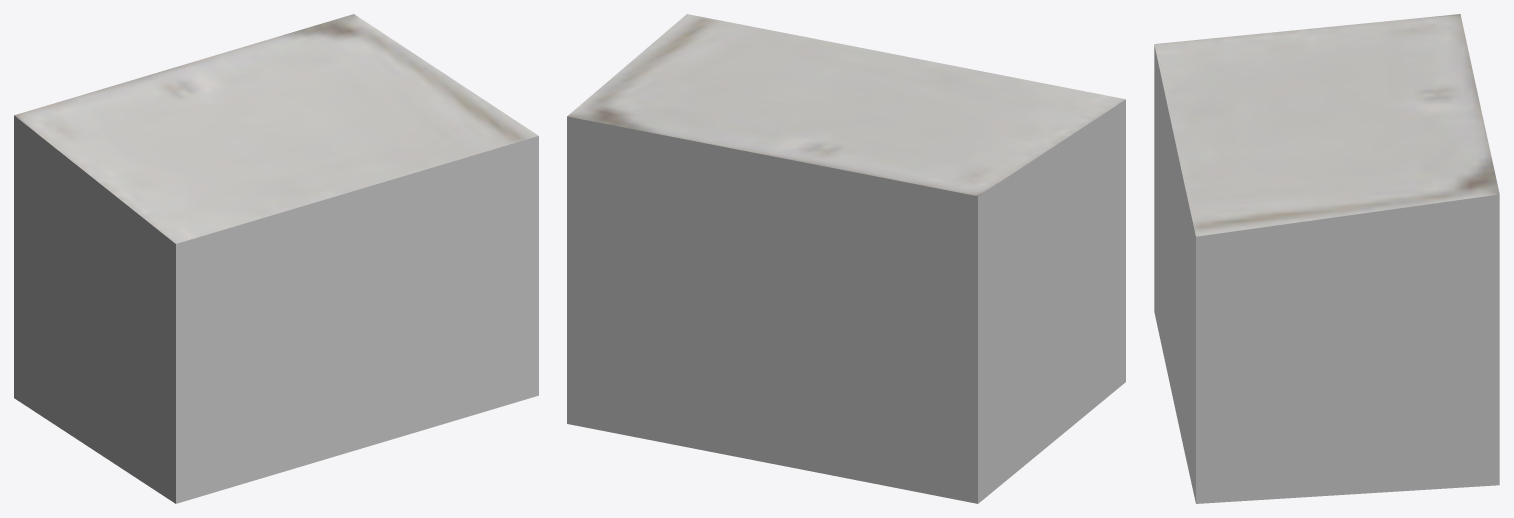
File: DEBW_0010007Tx8V.gltf
The picture shows the model from 3 angles, left to right: view 1: azimuth 30°, elevation 25°; view 2: azimuth 150°, elevation 25°; view 3: azimuth 270°, elevation 25°; orthographic projection. The views are drawn at different scales.
Parts seen in each view (by area): view 1: Z_UP; view 2: Z_UP; view 3: Z_UP.
Boxes of the visible parts, box(x1,y1,x2,y2) form: Z_UP: box(14, 14, 538, 503); Z_UP: box(567, 14, 1125, 503); Z_UP: box(1154, 14, 1499, 503).
Size of the model in its own units: 11.05 by 7.54 by 8.11.
Materials: 2 (1 with a texture image).
